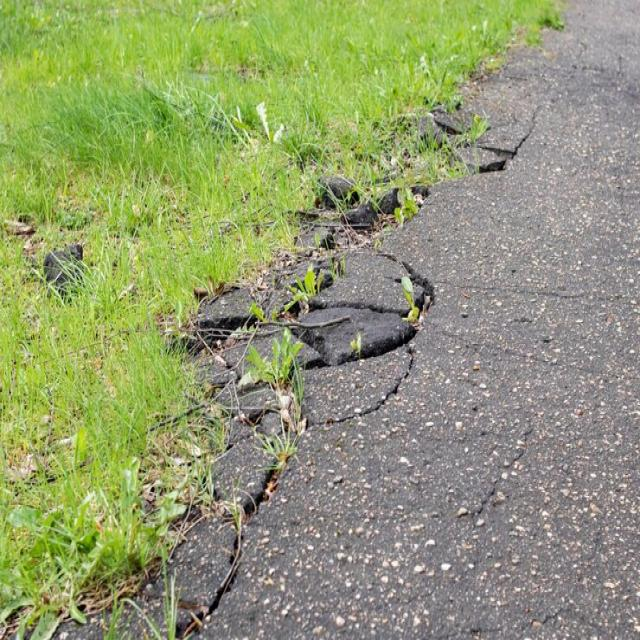Pothole: (21, 14, 571, 640)
